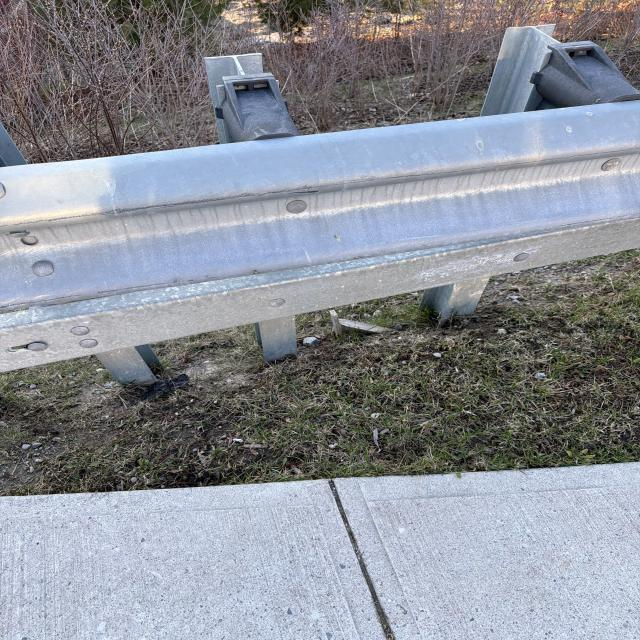Guard rail: (26, 103, 640, 346), (482, 30, 638, 114)
